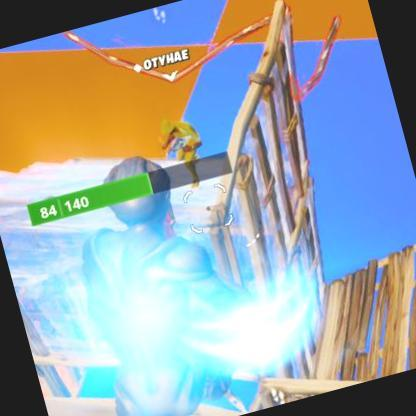person: (154, 103, 214, 188)
